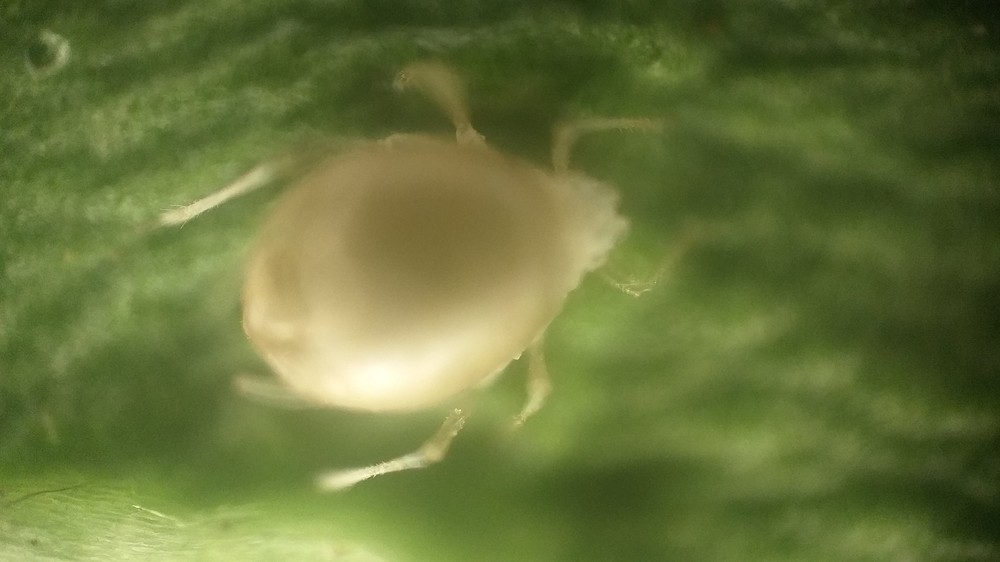Pulgon: (148, 56, 731, 507)
